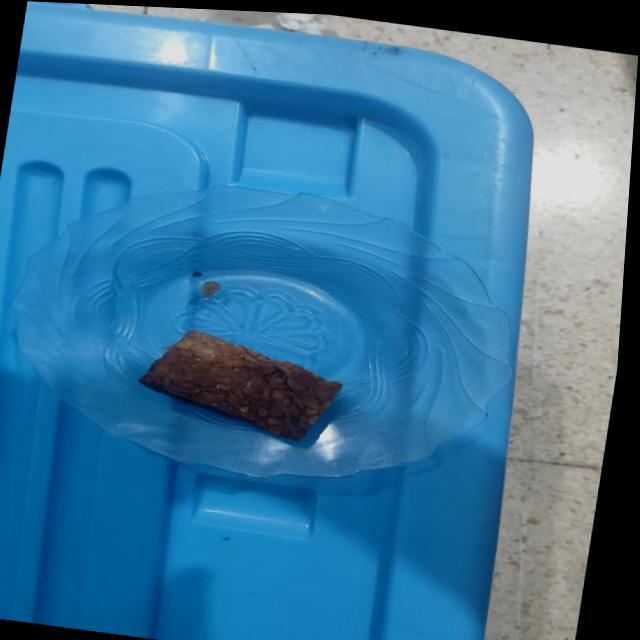tempe_goreng: (139, 330, 341, 440)
